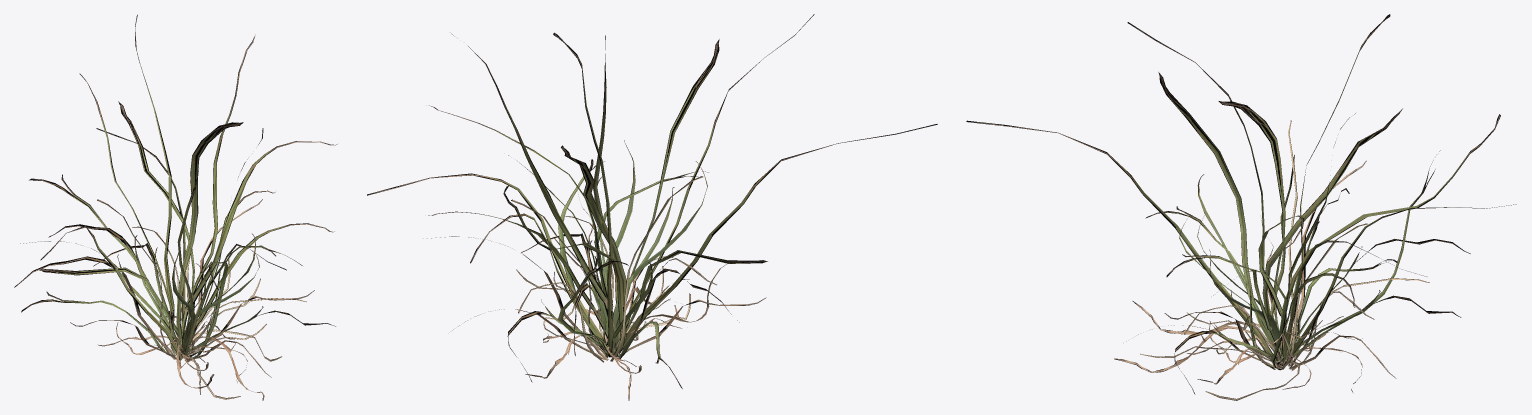
File: grass_medium_02_d.glb
3 renders of one model, left to right at view 1: azimuth 30°, elevation 25°; view 2: azimuth 150°, elevation 25°; view 3: azimuth 270°, elevation 25°, orthographic. The views are drawn at different scales.
Parts seen in each view (by area): view 1: grass_medium_02_d; view 2: grass_medium_02_d; view 3: grass_medium_02_d.
Boxes of the visible parts, x1=… form: grass_medium_02_d: x1=14, y1=14, x2=337, y2=400; grass_medium_02_d: x1=367, y1=14, x2=937, y2=400; grass_medium_02_d: x1=966, y1=14, x2=1516, y2=400.
Size of the model in its own units: 0.3174 by 0.2604 by 0.3619.
1 material, 1 textured.
